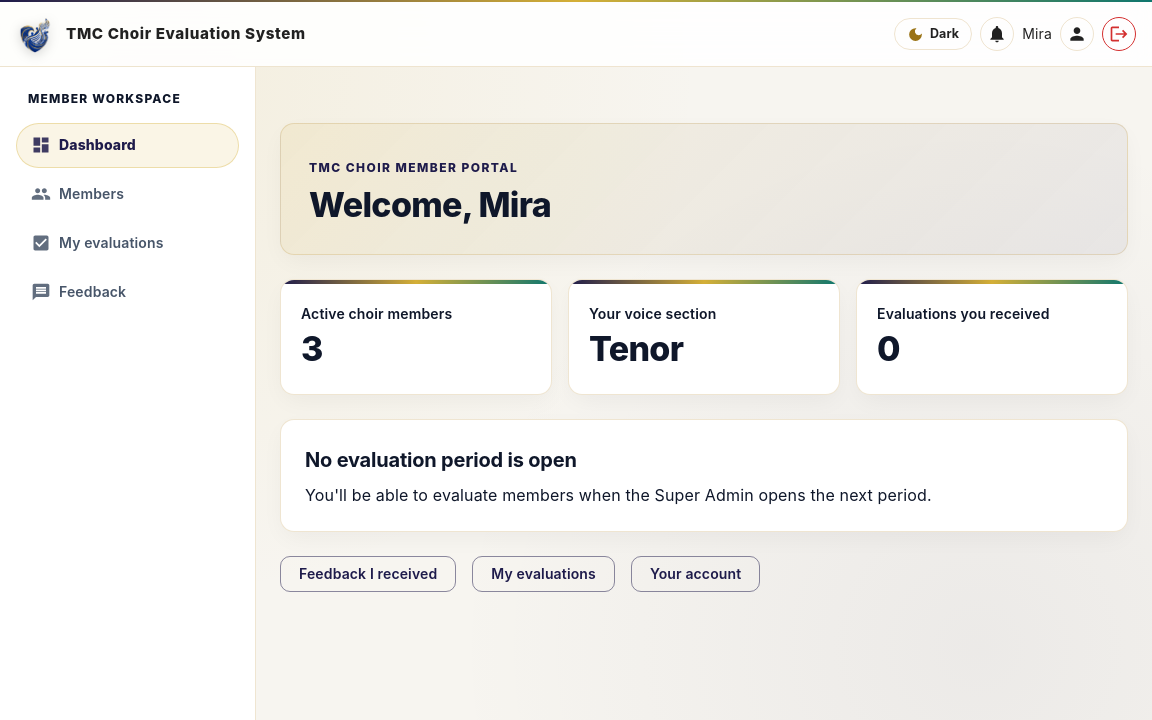
Test: Notification bell (RT-01, RT-02) › falls back to polling and says so when the socket drops
Step 1. Click the button named "notifications" → (997, 34), box [980, 17, 1014, 51]
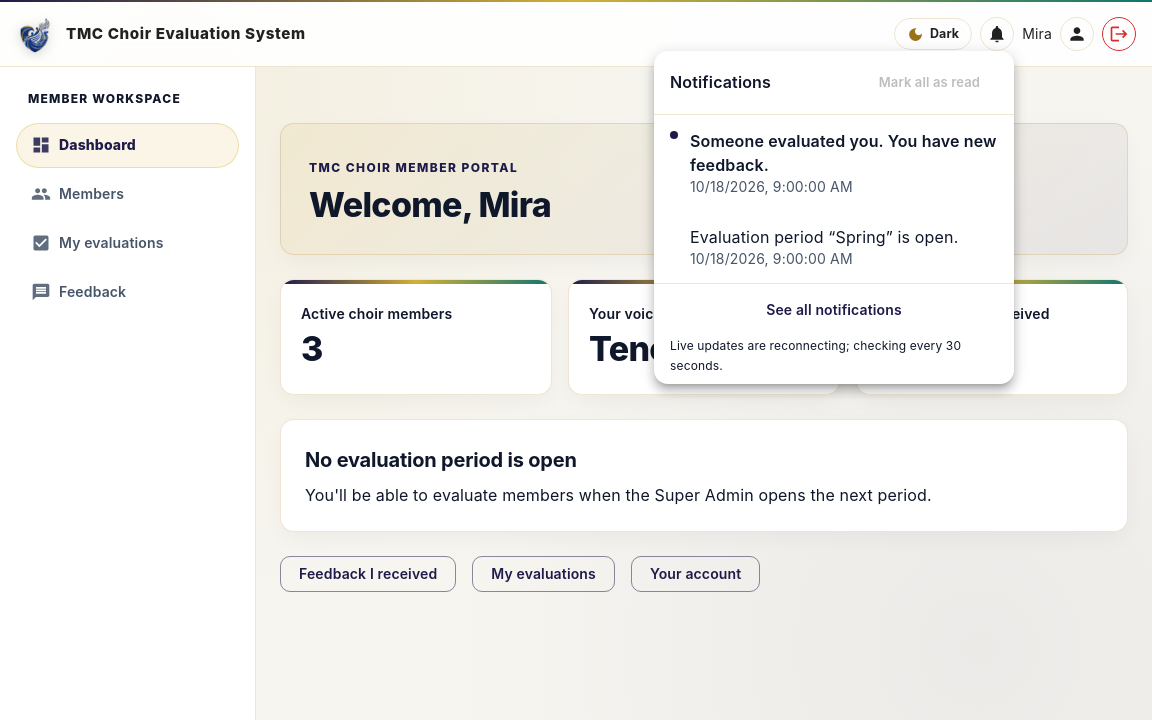
Expected: the text "Live updates are reconnecting; checking every 30 seconds." is shown, [670, 338, 961, 373]
